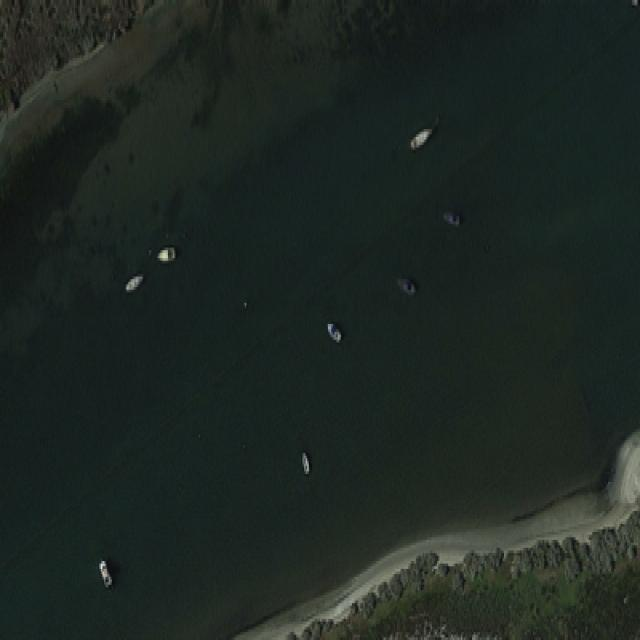boat: (410, 124, 432, 147), (96, 556, 112, 584), (125, 271, 144, 290), (156, 242, 174, 261), (325, 318, 341, 339), (396, 274, 414, 292), (442, 208, 459, 224), (301, 448, 309, 471)
